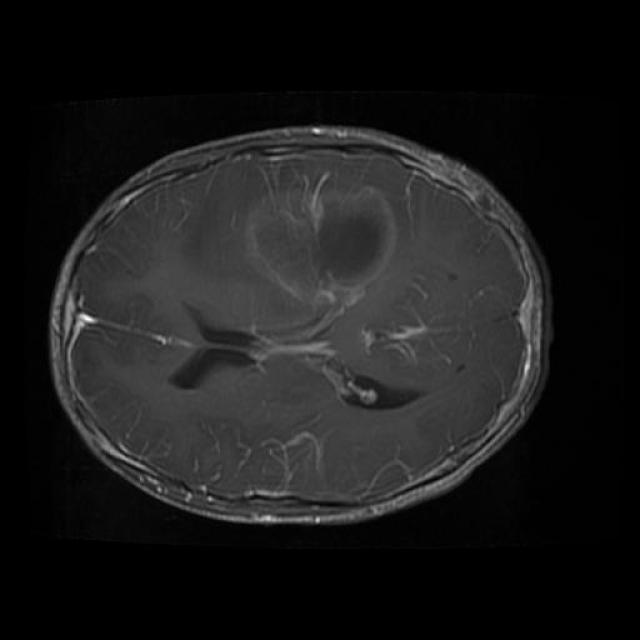Glioma: (248, 186, 394, 299)
